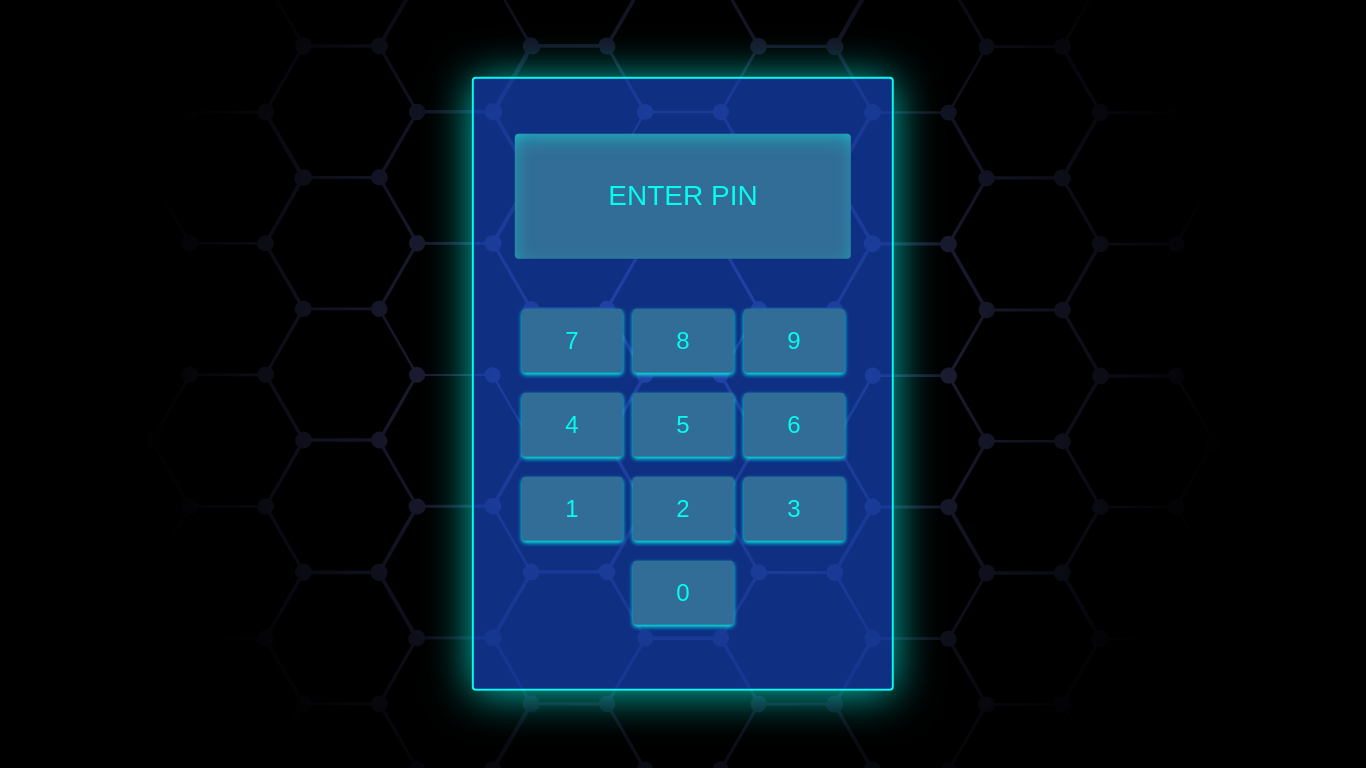
Test: PinpadApp › Render correct text on pin pad update
The image size is (1366, 768).
Click the button "4": (572, 425) x1=522 y1=393 x2=622 y2=457
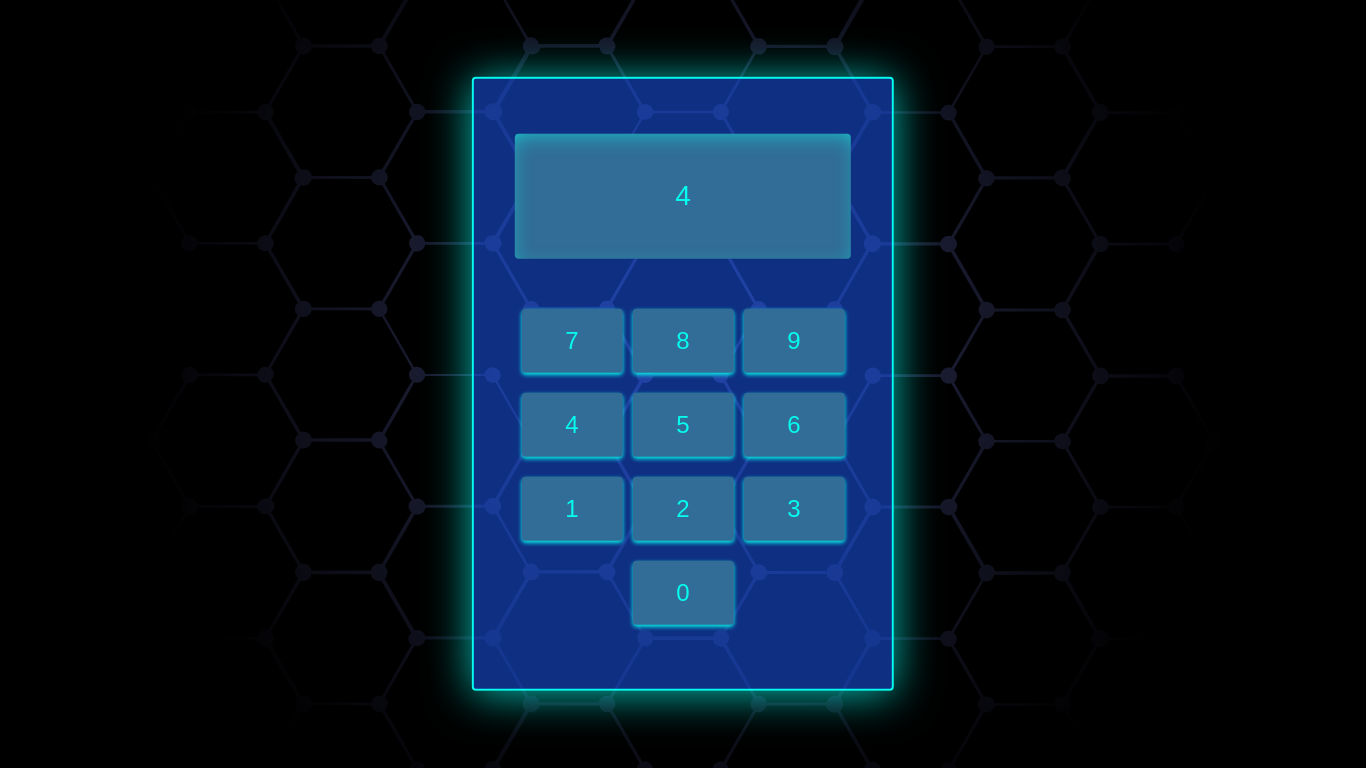
Click the button "5": (683, 425) x1=632 y1=393 x2=733 y2=457
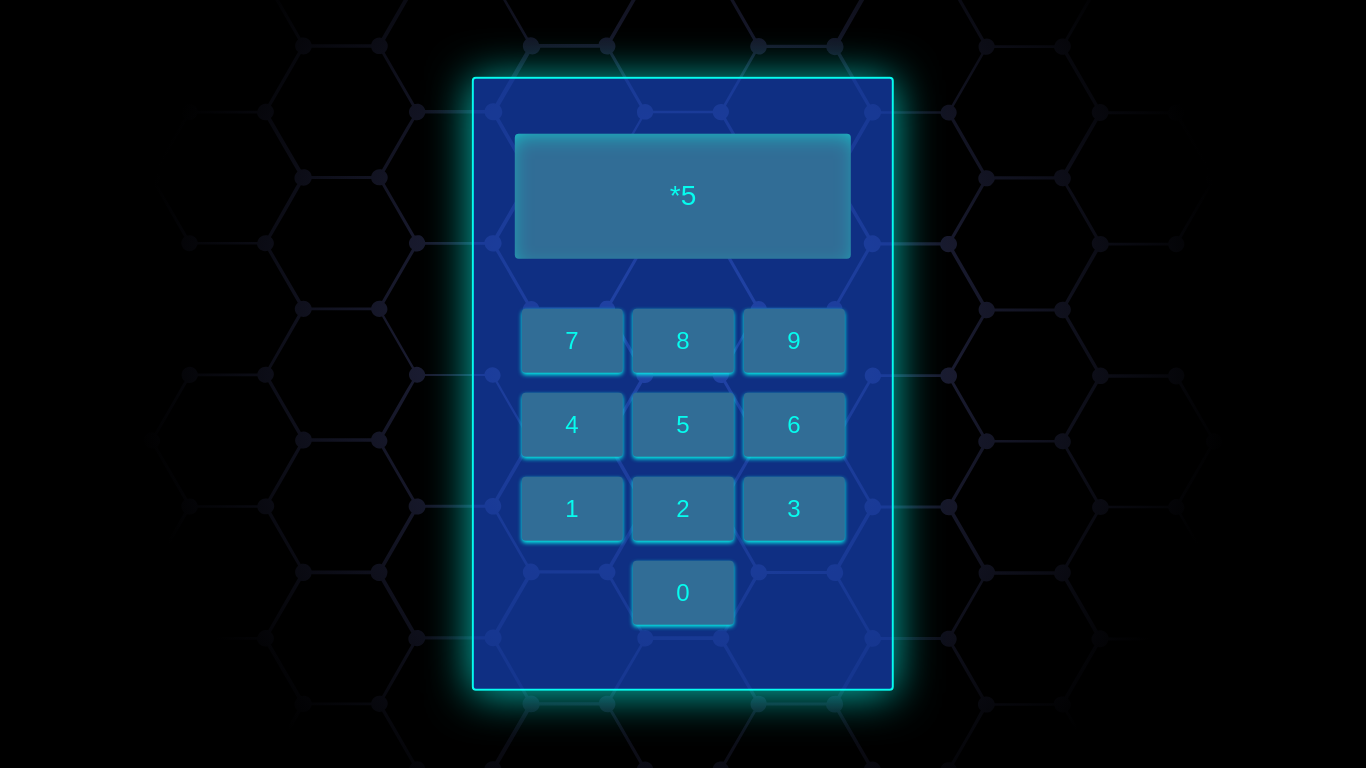
Result: the text with test id "displayText" reads "*5" at x1=670 y1=180 x2=696 y2=211
